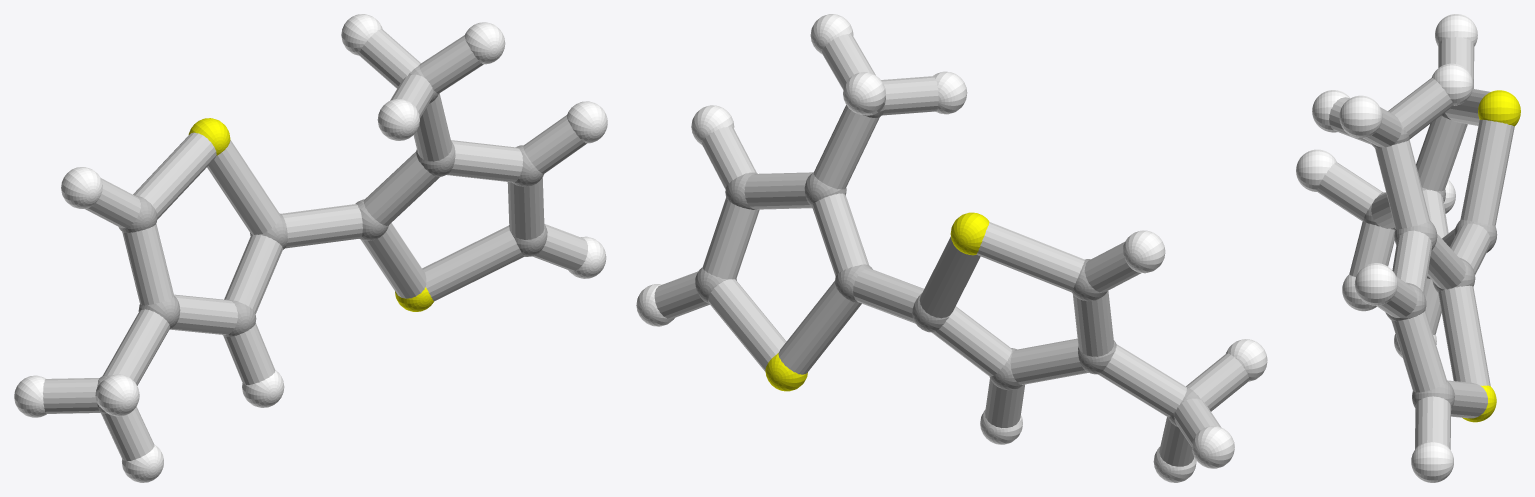
File: Methylthiophene_Phi_25_Theta_40_Methylthiophene.glb
3 views of the same model, side by side, from view 1: azimuth 30°, elevation 25°; view 2: azimuth 150°, elevation 25°; view 3: azimuth 270°, elevation 25° (orthographic).
Parts seen in each view (by area): view 1: grp7965, grp3621, grp1, grp7241; view 2: grp7965, grp3621, grp1, grp7241; view 3: grp7965, grp3621, grp1, grp7241.
Part boxes in pixels (x1=…): grp7965: x1=43, y1=29, x2=587, y2=460; grp3621: x1=14, y1=14, x2=607, y2=482; grp1: x1=97, y1=65, x2=547, y2=413; grp7241: x1=188, y1=118, x2=433, y2=311; grp7965: x1=654, y1=34, x2=1249, y2=466; grp3621: x1=636, y1=14, x2=1267, y2=482; grp1: x1=695, y1=104, x2=1202, y2=426; grp7241: x1=765, y1=212, x2=989, y2=391; grp7965: x1=1317, y1=36, x2=1514, y2=449; grp3621: x1=1296, y1=14, x2=1477, y2=482; grp1: x1=1363, y1=113, x2=1497, y2=407; grp7241: x1=1462, y1=90, x2=1520, y2=422.
Size of the model in its own units: 9.58 by 5.86 by 3.14.
